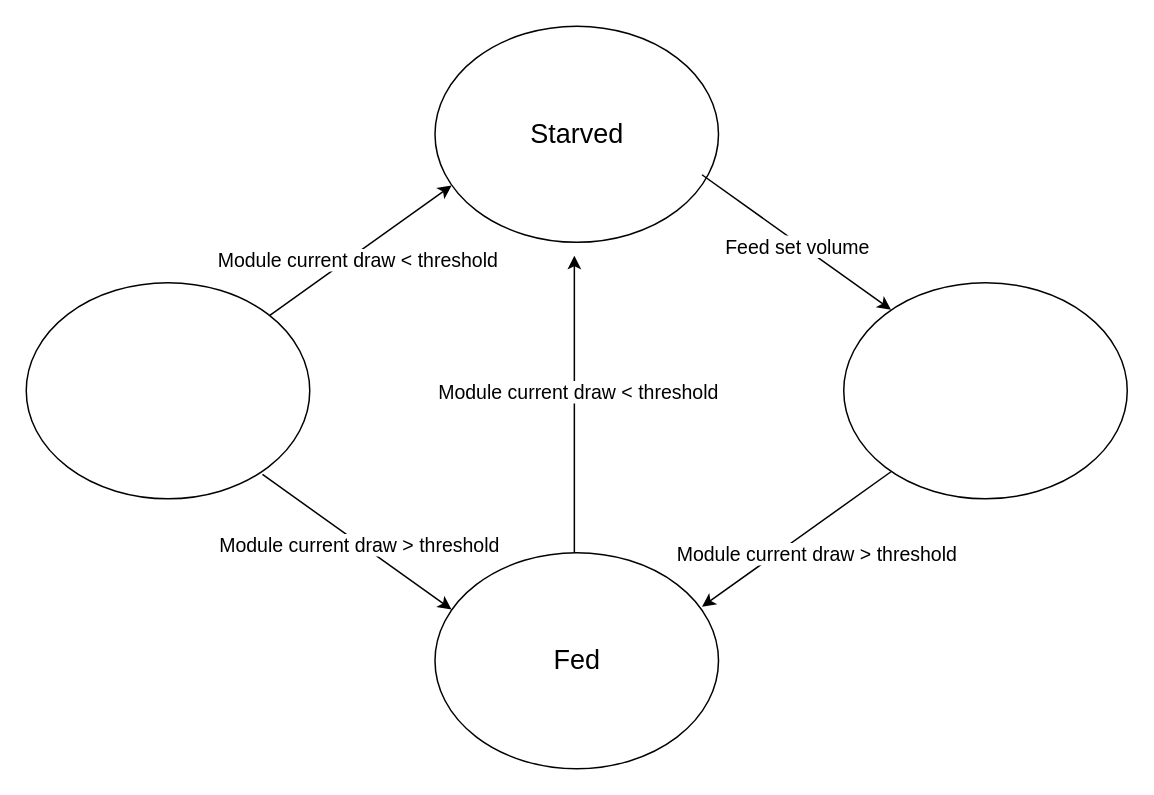
Some shapes in this 1154 by 795 pixel diagram are drawn without their labels. Here are the shapes that lost their labels. From the top down, the box of each, then its label:
(25, 281, 310, 499): Startup
(842, 281, 1127, 499): Recovery
